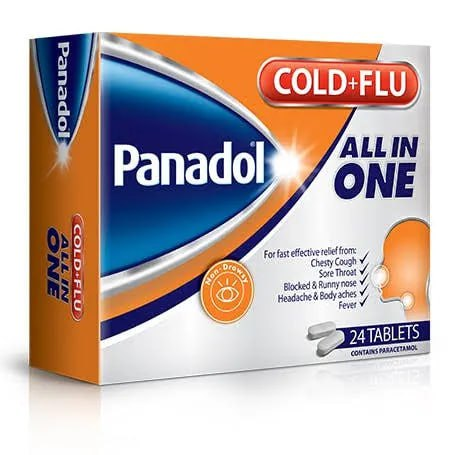Medicine: (19, 25, 444, 384)
